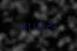four: (17, 20, 23, 31)
one: (24, 20, 30, 31), (32, 20, 38, 31), (53, 19, 59, 30)
two: (39, 19, 45, 30), (46, 19, 52, 30)
